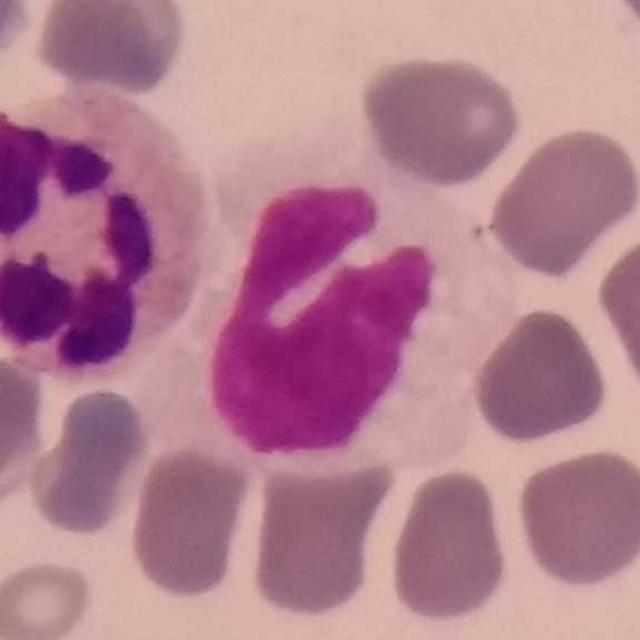Monocyte: (168, 128, 511, 476)
Neutrophil: (1, 80, 210, 400)
RBC: (242, 456, 392, 624), (483, 122, 639, 280), (355, 49, 527, 189), (125, 438, 255, 604), (384, 464, 515, 628), (467, 303, 612, 447), (23, 383, 154, 539), (511, 444, 640, 590), (28, 0, 192, 99), (593, 228, 640, 409), (0, 556, 97, 640), (0, 345, 49, 496), (0, 1, 39, 75)
